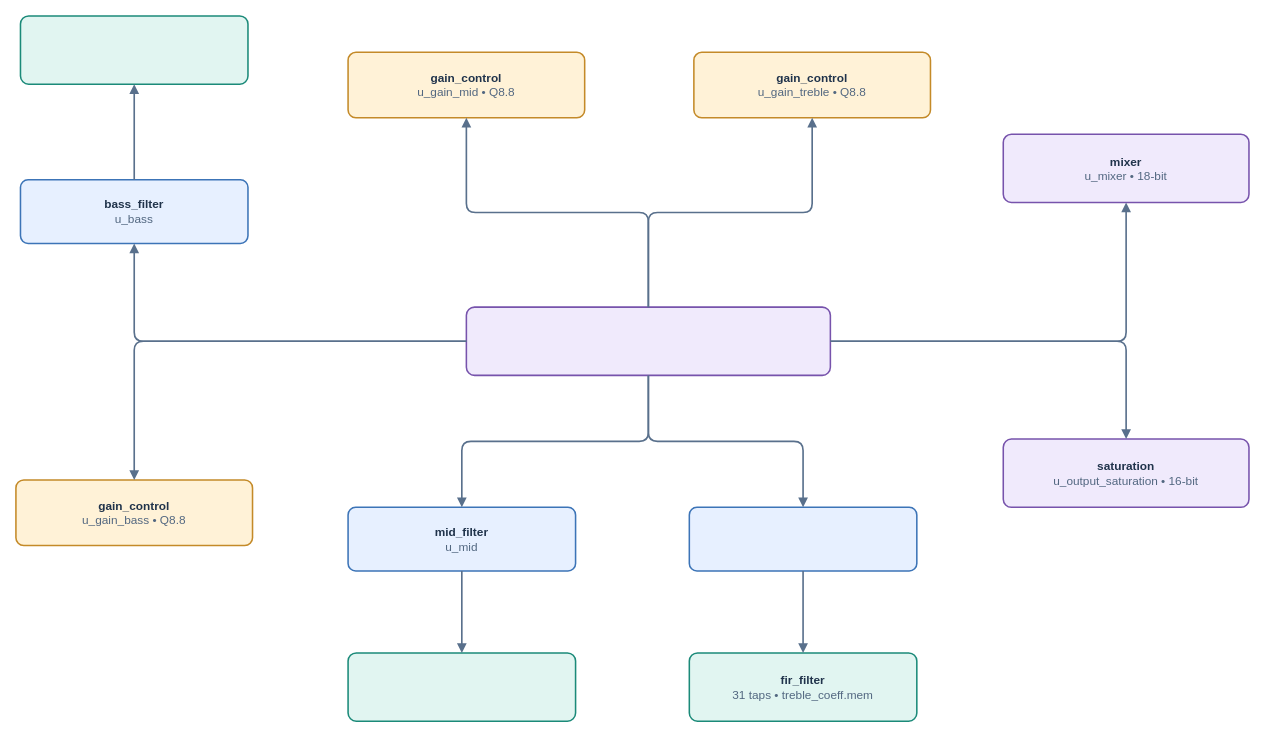
Some shapes in this 1266 by 738 pixel diagram are drawn without their labels. The centre of each missing label's shape, as x and y in pixels:
"audio_equalizer_top top-level module" belongs at pixel 648 341.
"fir_filter 31 taps • bass_coeff.mem" belongs at pixel 133 50.
"fir_filter 31 taps • mid_coeff.mem" belongs at pixel 461 687.
"treble_filter u_treble" belongs at pixel 802 538.
